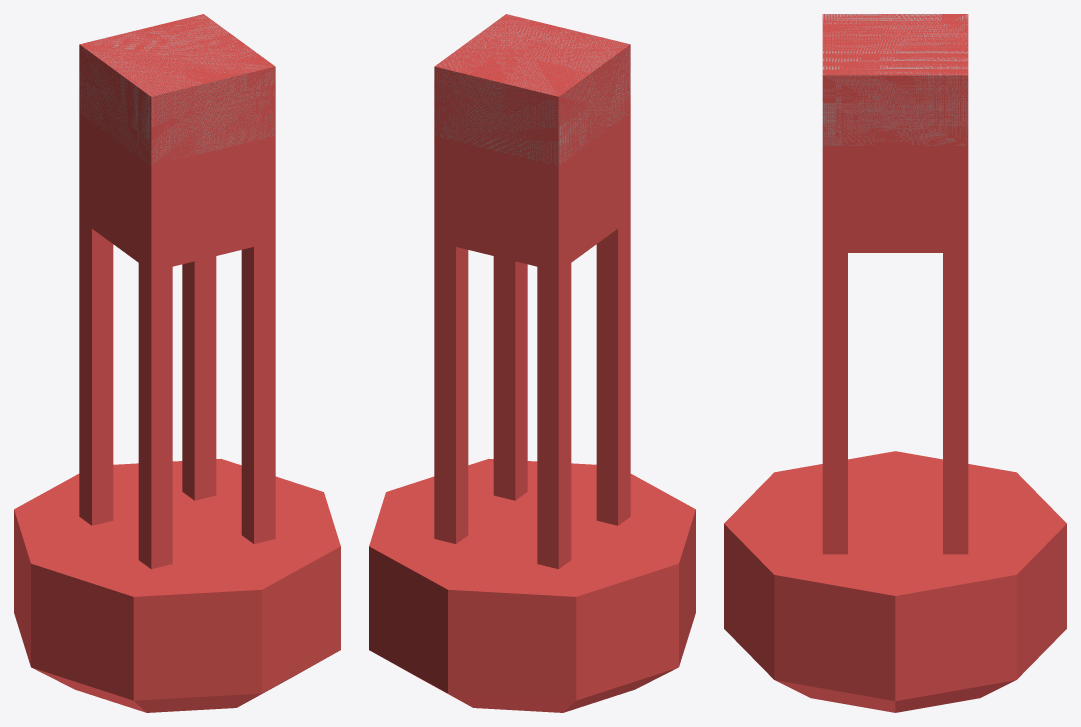
Rendered from buoy.dae.
3 views of the same model, side by side, from view 1: azimuth 30°, elevation 25°; view 2: azimuth 150°, elevation 25°; view 3: azimuth 270°, elevation 25° (orthographic).
Visible parts, largest first — view 1: buoy; view 2: buoy; view 3: buoy.
Part boxes in pixels (x1,y1,x2,y2): buoy: (14,14,340,712); buoy: (369,14,695,712); buoy: (724,14,1066,712).
Bounding box in the file's own units: 0.9282 × 1.84 × 0.9282.
